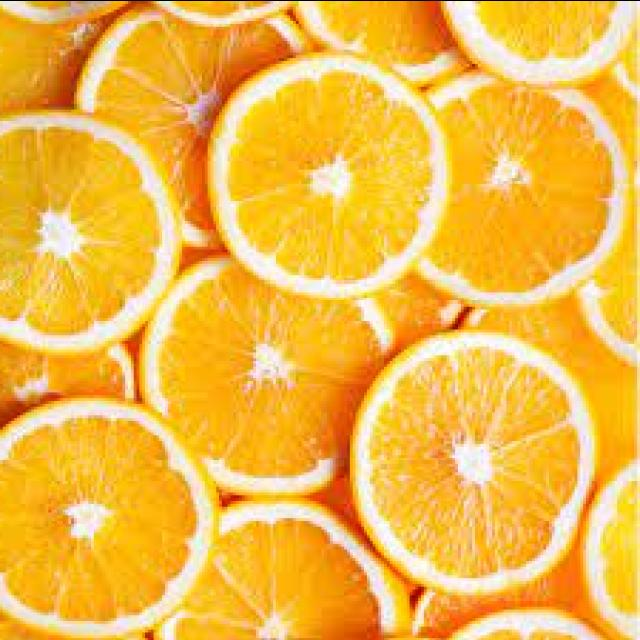orange: (352, 322, 588, 592)
